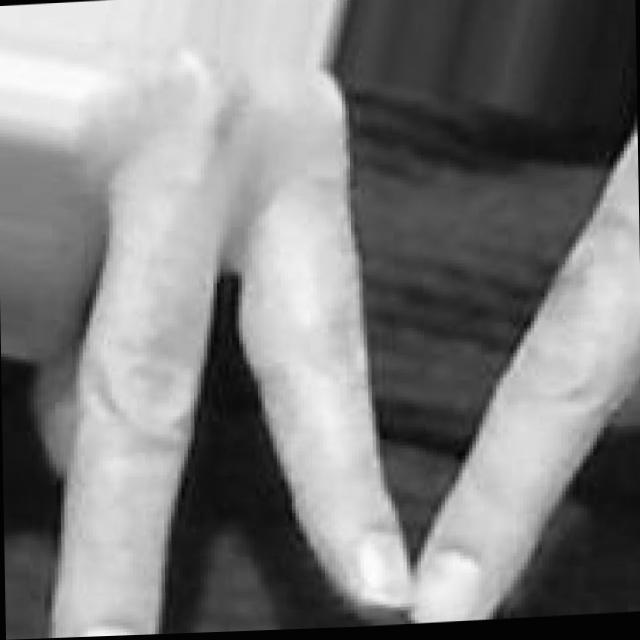N: (22, 0, 640, 639)
